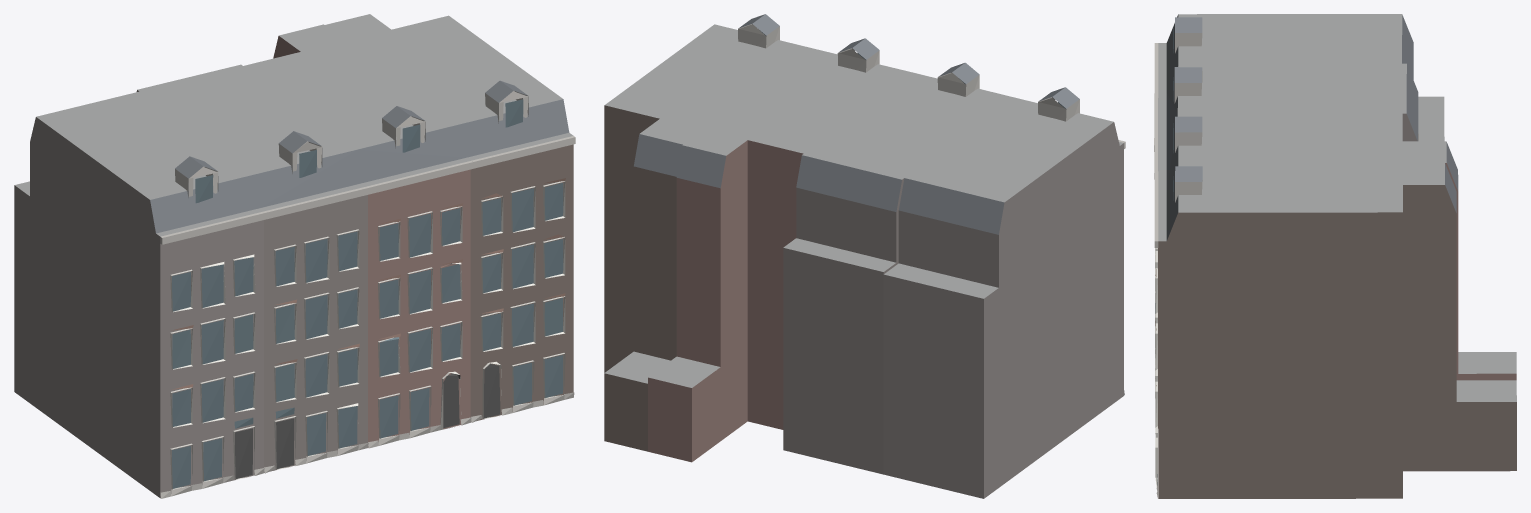
Rendered from chunk-face-ruysch-64-124-r2.lod2.glb.
The picture shows the model from 3 angles, left to right: view 1: azimuth 30°, elevation 25°; view 2: azimuth 150°, elevation 25°; view 3: azimuth 270°, elevation 25°; orthographic projection. The views are drawn at different scales.
Parts seen in each view (by area): view 1: lod2; view 2: lod2; view 3: lod2.
Part boxes in pixels (box(x1,y1,x2,y2)): lod2: box(14, 14, 575, 498); lod2: box(604, 14, 1125, 498); lod2: box(1154, 14, 1516, 498).
Bounding box in the file's own units: 22.36 × 16.16 × 17.25.
